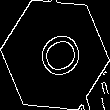O_SW: (26, 25, 84, 85)
